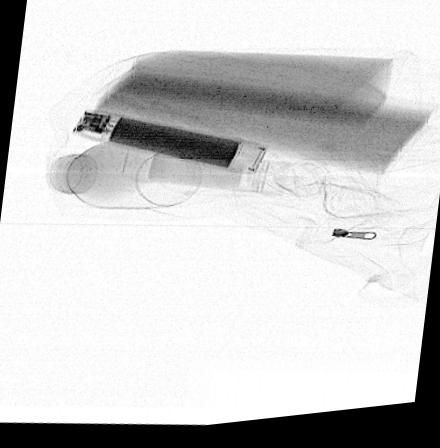Powerbank: (68, 108, 267, 179)
